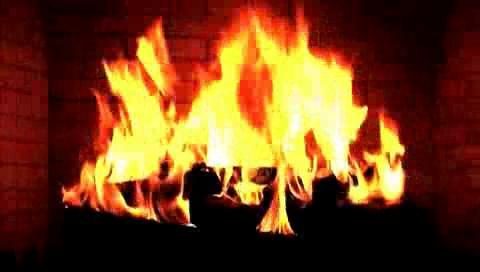fire: (62, 25, 407, 203)
